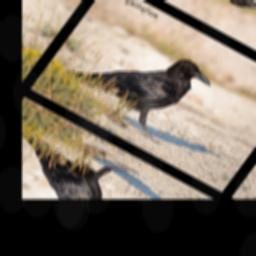Crow: (48, 12, 219, 149)
